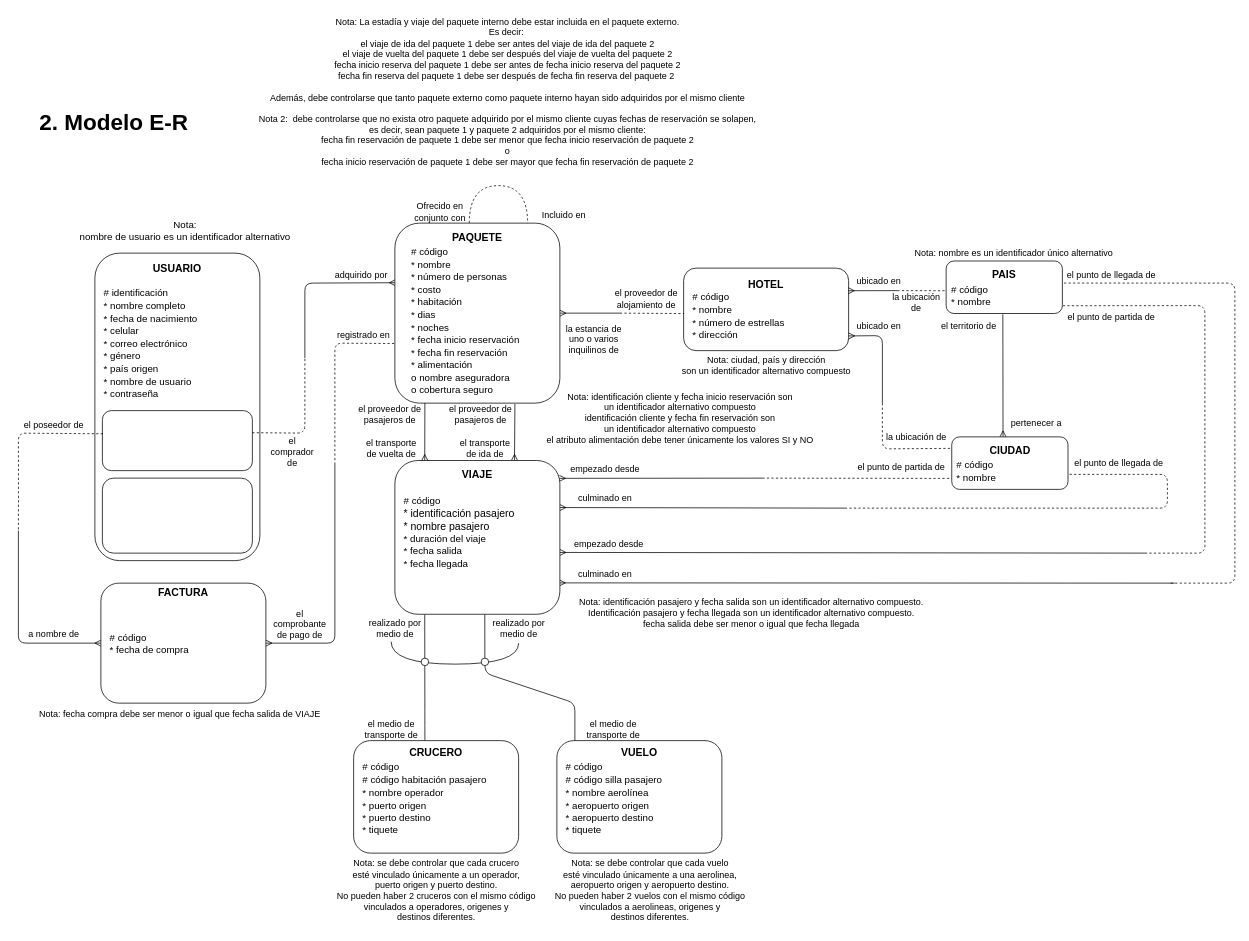
Some shapes in this 1249 by 941 pixel diagram are drawn without their labels. The centre of each missing label's shape, as x and y in pixels:
CLIENTE * celular de emergencia * correo de emergencia: the point at 177,440
EMPLEADO # código de empleado * fecha inicio de labores * salario: the point at 177,515
